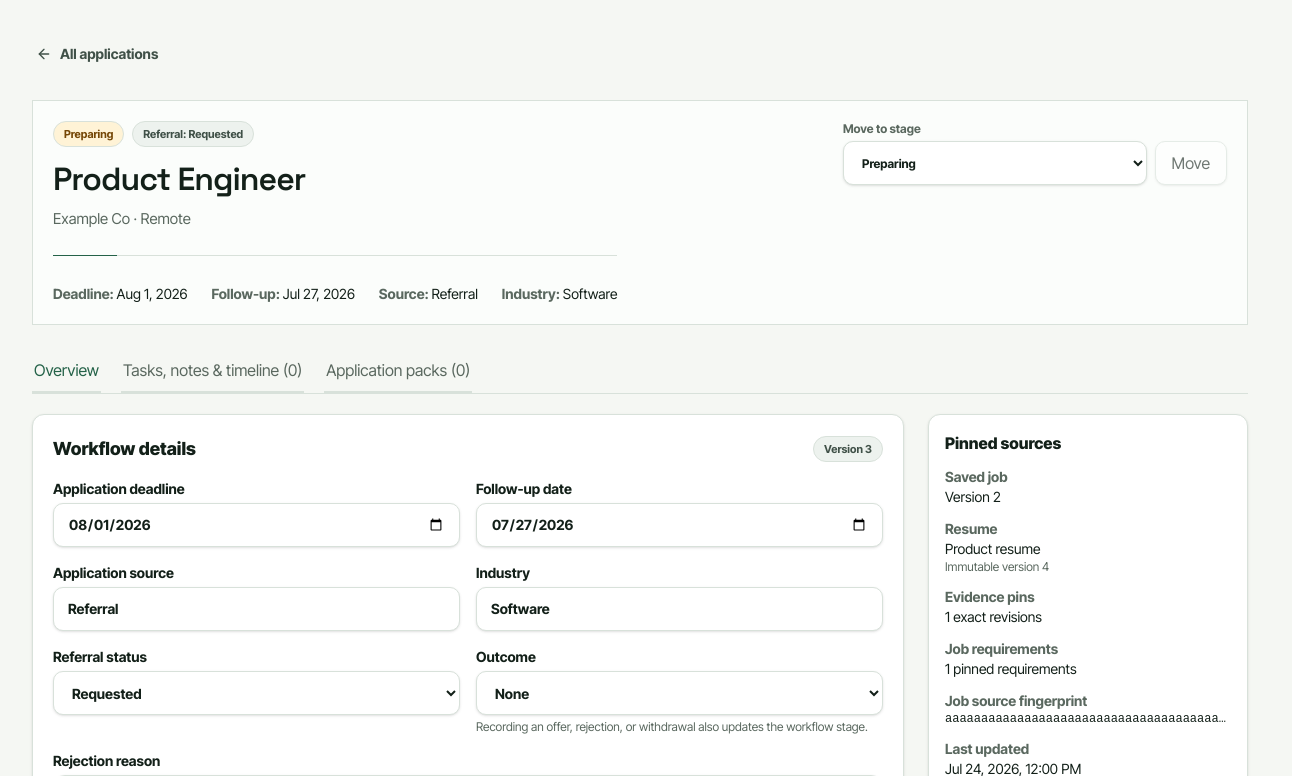
Application detail workflow › fetches full pack documents only when a listed pack is expanded
Check: the heading "Product Engineer" is shown, box [53,159,305,199]
Click the tab "Application packs (0)". click: [398, 371]
box: [324,349,472,393]
(page scrolled)
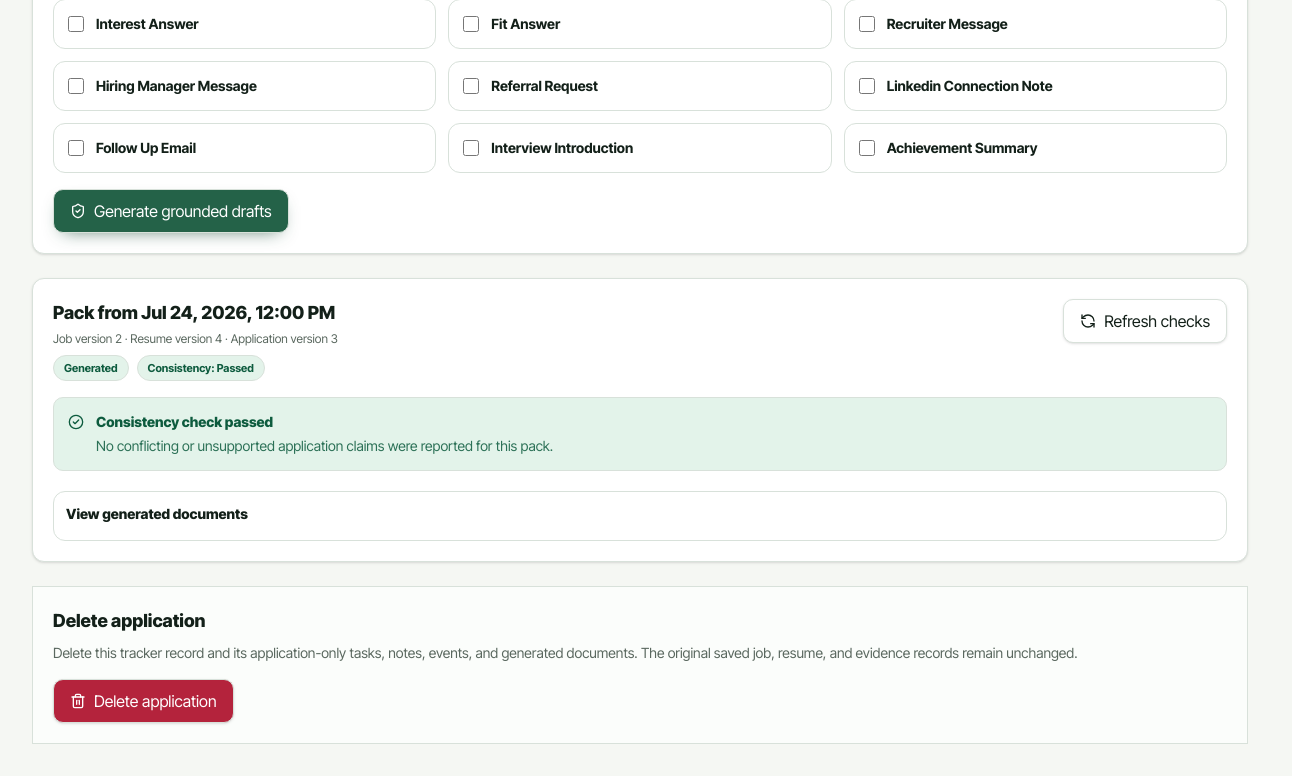
Check: the heading "Pack from Jul 24, 2026, 12:00 PM" is shown, box [53,299,338,327]
Click the heading "View generated documents". click: [157, 514]
box: [66,505,248,522]
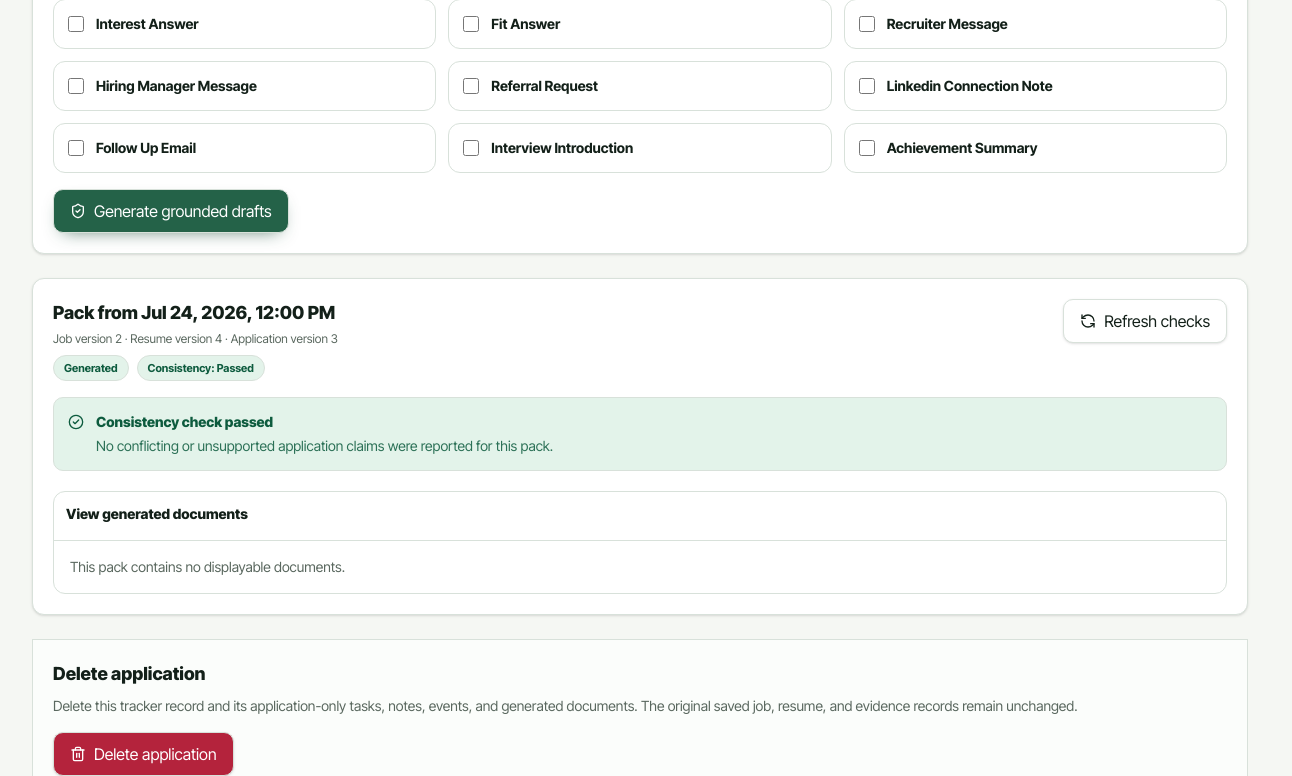
Check: the text "This pack contains no displayable documents." is shown, box [70,558,345,575]
